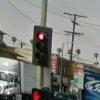Traffic light: (27, 22, 57, 76)
